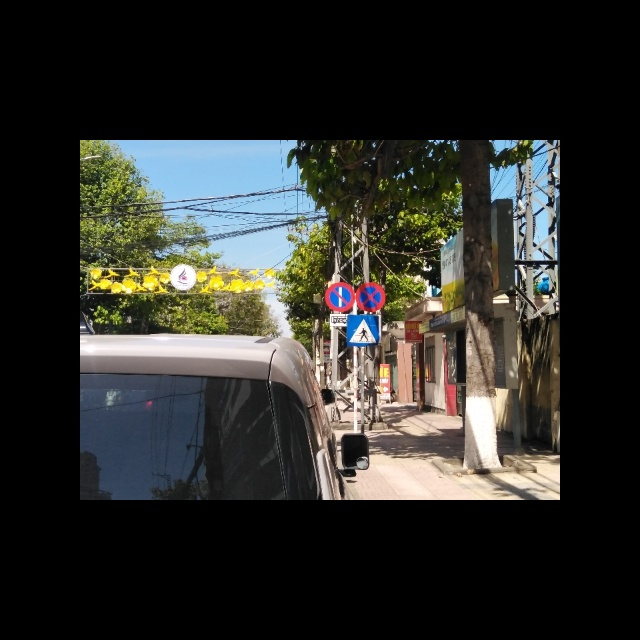Cấm dừng xe và đỗ xe: (355, 281, 388, 311)
Cấm đỗ xe ngày lẻ: (324, 280, 355, 312)
Đường dành cho người đi bộ: (347, 313, 379, 345)
